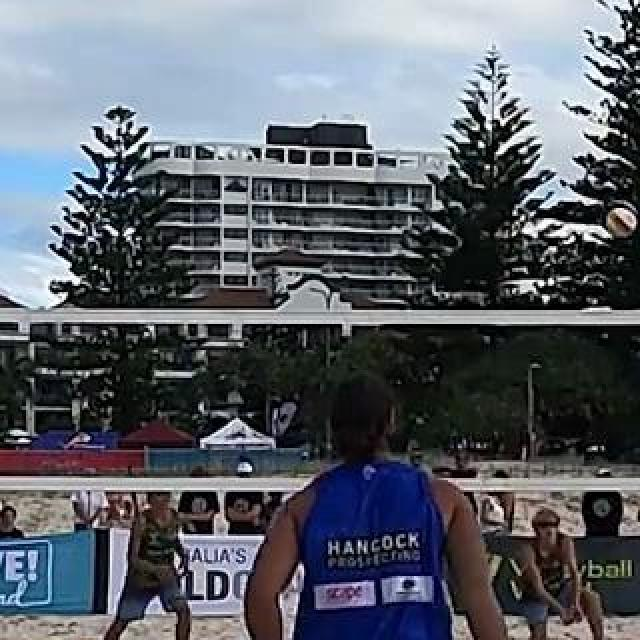volleyball: (608, 206, 638, 236)
